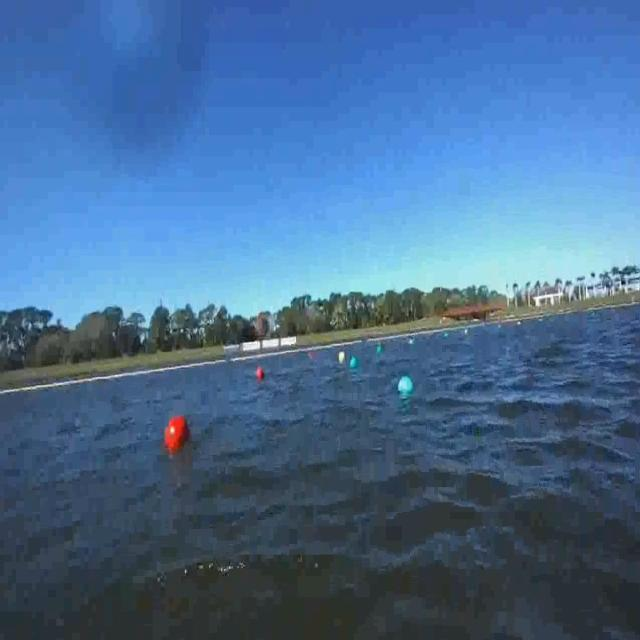green-buoy: (399, 373, 415, 394), (349, 356, 358, 368), (378, 345, 384, 355)
red-buoy: (166, 414, 194, 455), (256, 366, 264, 378)
yellow-buoy: (340, 351, 348, 363)
